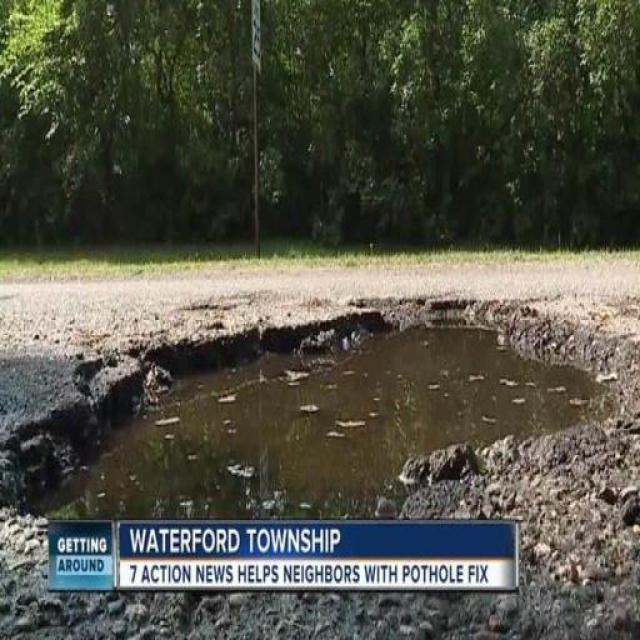puddle: (174, 357, 565, 453), (94, 442, 410, 522), (367, 332, 502, 431)
